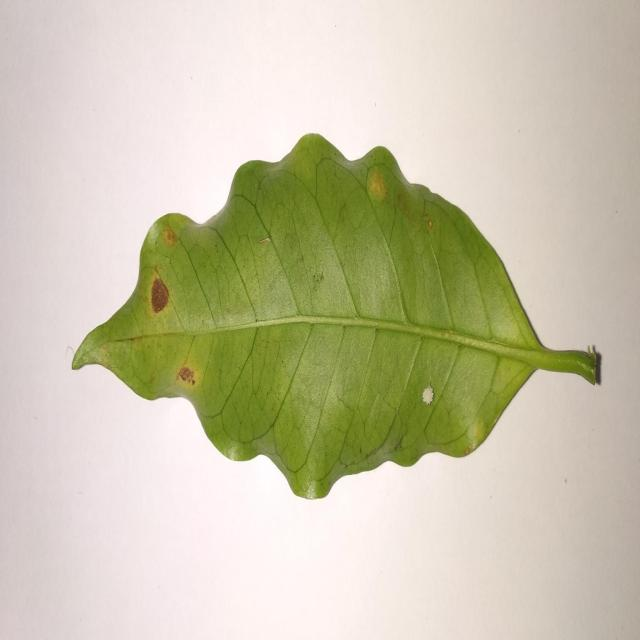Enfermedad-Mancha-de-hierro: (70, 134, 603, 503)
